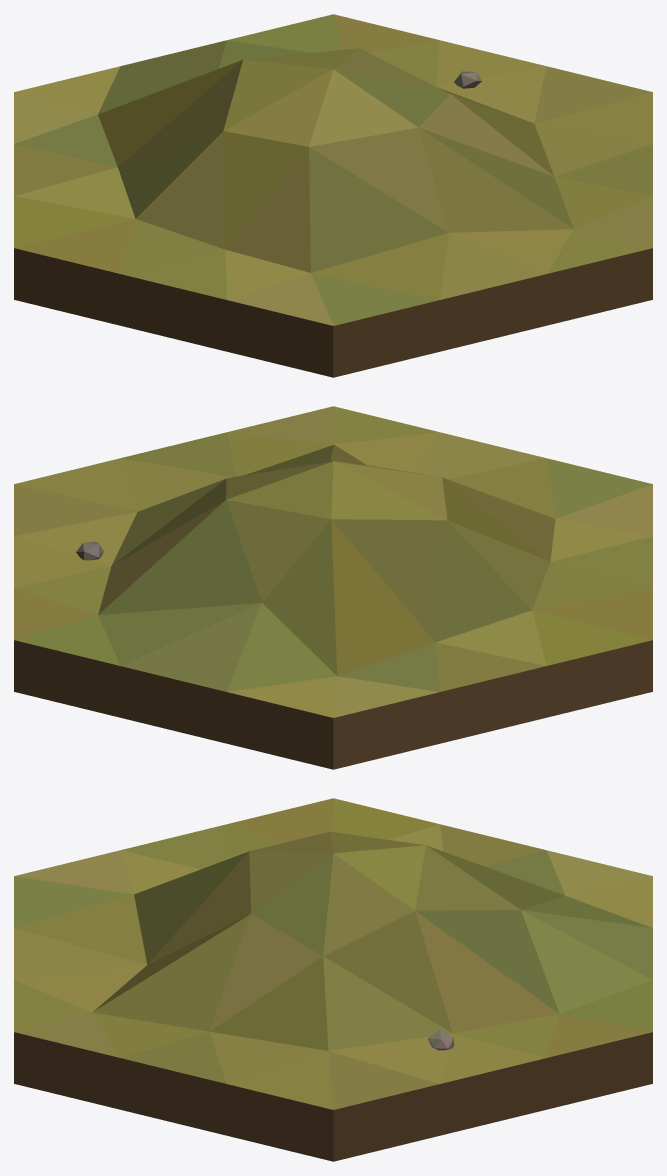
Rendered from Plains Hill-Far.glb.
The picture shows the model from 3 angles, top to bottom: view 1: azimuth 30°, elevation 25°; view 2: azimuth 150°, elevation 25°; view 3: azimuth 270°, elevation 25°; orthographic projection.
Parts seen in each view (by area): view 1: Plains Hill-Far; view 2: Plains Hill-Far; view 3: Plains Hill-Far.
Boxes of the visible parts, x1=… form: Plains Hill-Far: x1=14, y1=14, x2=652, y2=377; Plains Hill-Far: x1=14, y1=406, x2=652, y2=769; Plains Hill-Far: x1=14, y1=798, x2=652, y2=1161.
Size of the model in its own units: 1.94 by 0.4425 by 1.68.
